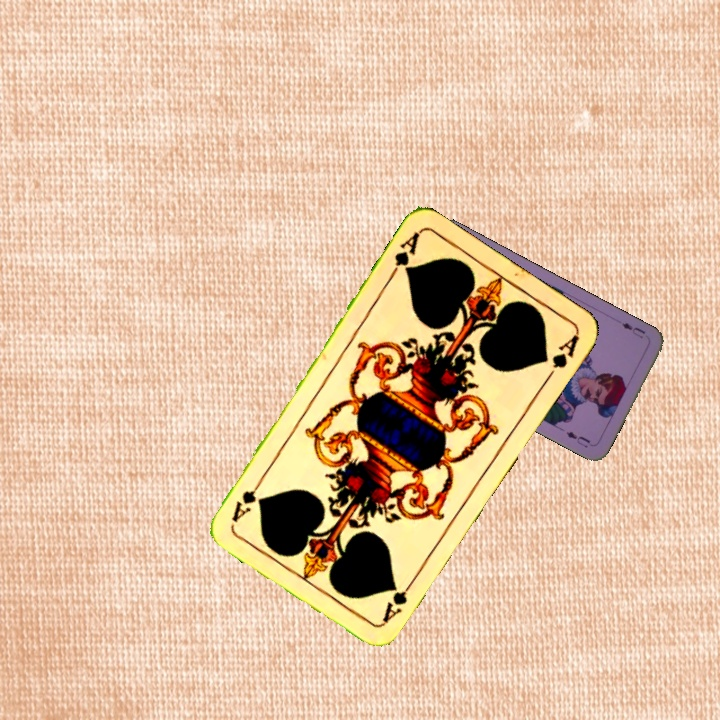EU: (618, 318, 648, 341)
GA: (378, 574, 419, 626), (384, 228, 423, 282)
